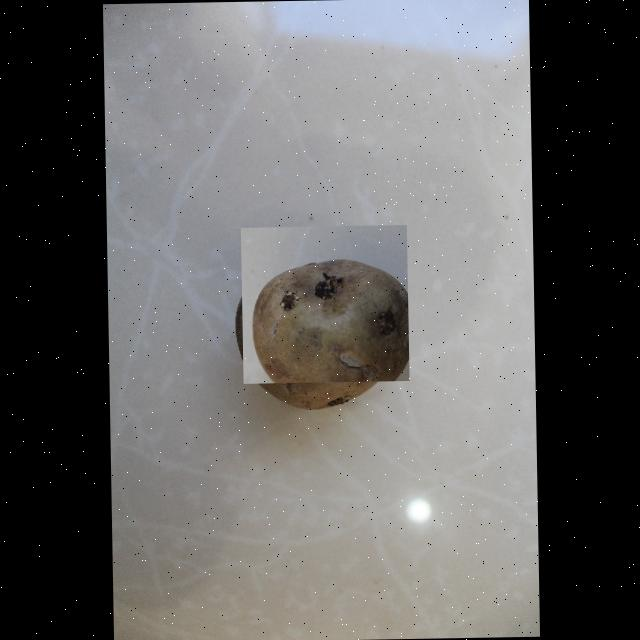Diseased-fungal potato: (239, 224, 408, 384)
